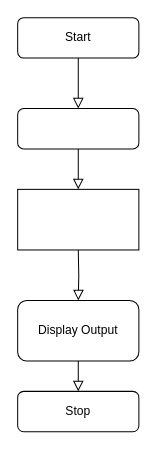
The diagram is 157 pixels wide and 449 high, and some of its shapes have lost their labels. Each missing label, with the centre of its shape:
"Compute Sum" goes at point 78,219.
"User Input" goes at point 78,128.
